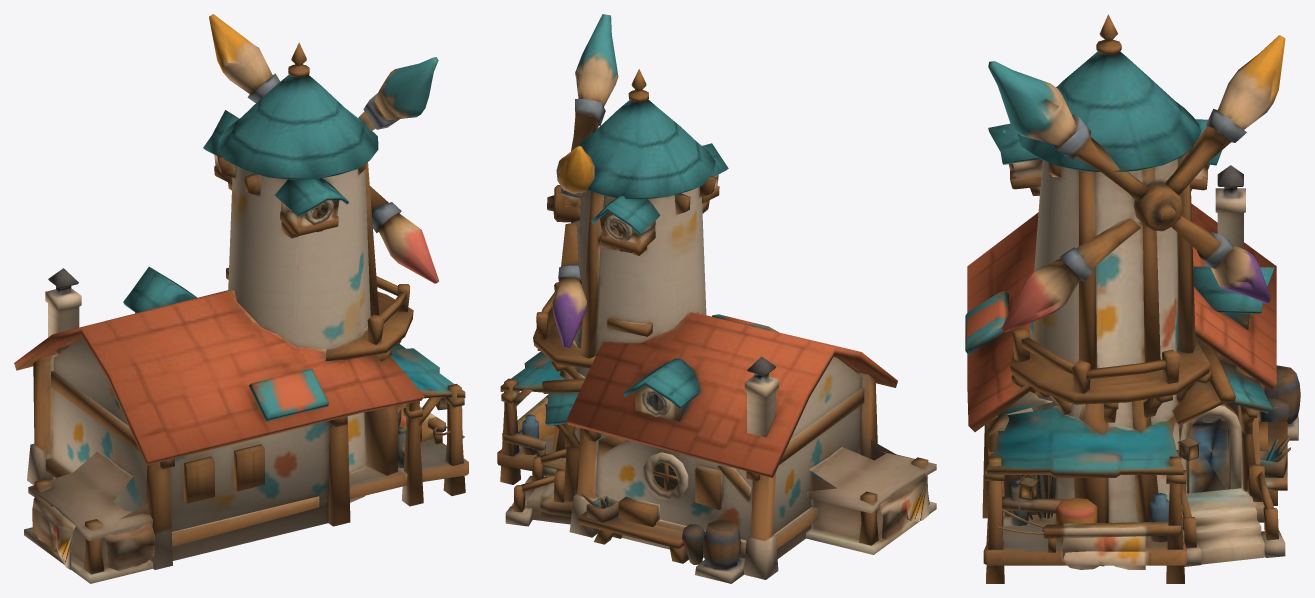
Rendered from 9ced9e24-paint-mill-web.glb.
The picture shows the model from 3 angles, left to right: view 1: azimuth 30°, elevation 25°; view 2: azimuth 150°, elevation 25°; view 3: azimuth 270°, elevation 25°; orthographic projection. The views are drawn at different scales.
Parts seen in each view (by area): view 1: tripo_node_9c8ac19c-a3ff-40b6-a9cc-c81037386d55; view 2: tripo_node_9c8ac19c-a3ff-40b6-a9cc-c81037386d55; view 3: tripo_node_9c8ac19c-a3ff-40b6-a9cc-c81037386d55.
Boxes of the visible parts, x1,y1,x2,y2 form: tripo_node_9c8ac19c-a3ff-40b6-a9cc-c81037386d55: [14, 14, 468, 583]; tripo_node_9c8ac19c-a3ff-40b6-a9cc-c81037386d55: [497, 14, 936, 583]; tripo_node_9c8ac19c-a3ff-40b6-a9cc-c81037386d55: [965, 14, 1300, 583].
Size of the model in its own units: 0.9199 by 0.998 by 0.5996.
Materials: 1 (1 with a texture image).
